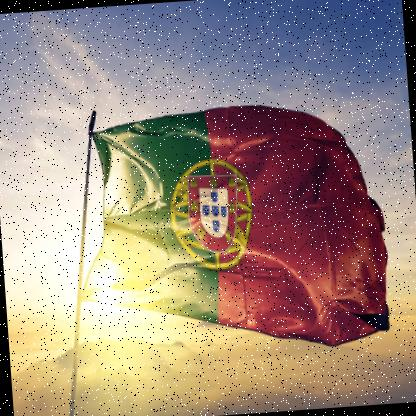pt: (64, 98, 396, 365)
